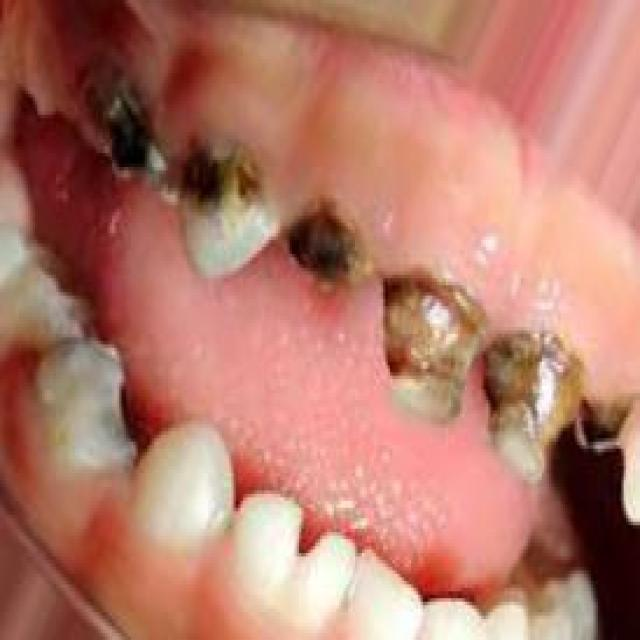caries: (167, 125, 282, 284), (379, 252, 482, 424), (488, 309, 585, 485), (72, 60, 166, 205), (279, 188, 376, 300), (102, 356, 156, 459)
